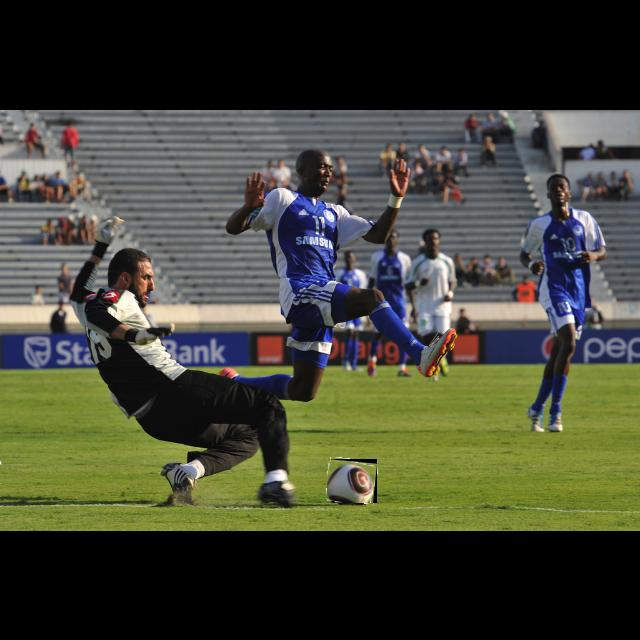Football: (327, 459, 377, 503)
